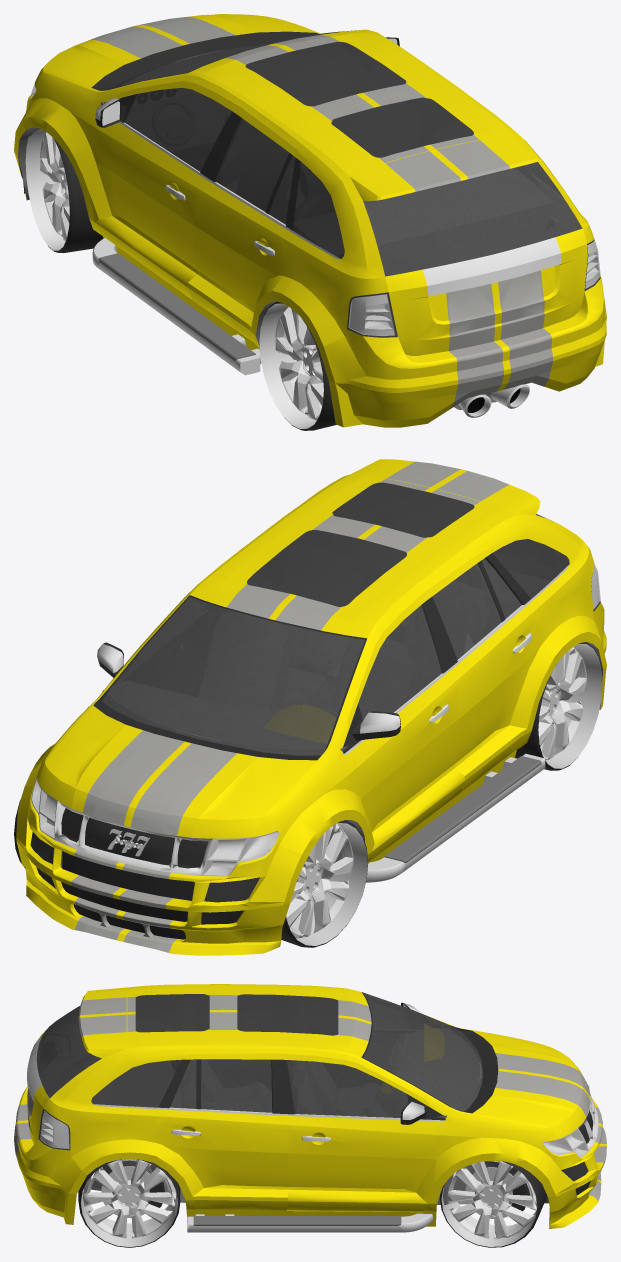
3 views of the same model, one above another, from view 1: azimuth 30°, elevation 25°; view 2: azimuth 150°, elevation 25°; view 3: azimuth 270°, elevation 25° (orthographic). The views are drawn at different scales.
Visible parts, largest first — view 1: mesh63_mesh63-geometry_1, mesh63_mesh63-geometry, mesh40_mesh40-geometry_1, mesh56_mesh56-geometry_1, mesh144_mesh144-geometry_1, mesh43_mesh43-geometry_1, mesh64_mesh64-geometry_1, mesh133_mesh133-geometry, mesh131_mesh131-geometry_1, mesh34_mesh34-geometry_1, mesh53_mesh53-geometry_1, mesh53_mesh53-geometry (+43 smaller); view 2: mesh136_mesh136-geometry_1, mesh136_mesh136-geometry, mesh33_mesh33-geometry_1, mesh56_mesh56-geometry_1, mesh43_mesh43-geometry_1, mesh40_mesh40-geometry_1, mesh33_mesh33-geometry_2, mesh112_mesh112-geometry_3, mesh133_mesh133-geometry, mesh131_mesh131-geometry_1, mesh34_mesh34-geometry_1, mesh53_mesh53-geometry_1 (+42 smaller); view 3: mesh86_mesh86-geometry_1, mesh101_mesh101-geometry_1, mesh93_mesh93-geometry_1, mesh136_mesh136-geometry_1, mesh136_mesh136-geometry, mesh80_mesh80-geometry_1, mesh83_mesh83-geometry_1, mesh83_mesh83-geometry, mesh33_mesh33-geometry_1, mesh208_mesh208-geometry_1, mesh239_mesh239-geometry_1, mesh133_mesh133-geometry (+44 smaller).
Boxes of the visible parts, box(x1,y1,x2,y2) form: mesh63_mesh63-geometry_1: box(363, 162, 582, 276); mesh63_mesh63-geometry: box(363, 162, 581, 276); mesh40_mesh40-geometry_1: box(103, 73, 388, 349); mesh56_mesh56-geometry_1: box(89, 122, 205, 287); mesh144_mesh144-geometry_1: box(319, 329, 507, 427); mesh43_mesh43-geometry_1: box(188, 179, 292, 332); mesh64_mesh64-geometry_1: box(385, 228, 587, 355); mesh133_mesh133-geometry: box(245, 42, 406, 106); mesh131_mesh131-geometry_1: box(189, 29, 515, 176); mesh34_mesh34-geometry_1: box(22, 69, 107, 221); mesh53_mesh53-geometry_1: box(125, 88, 231, 171); mesh53_mesh53-geometry: box(125, 88, 231, 171); mesh136_mesh136-geometry_1: box(102, 597, 364, 755); mesh136_mesh136-geometry: box(102, 597, 364, 755); mesh33_mesh33-geometry_1: box(38, 705, 316, 838); mesh56_mesh56-geometry_1: box(352, 670, 464, 851); mesh43_mesh43-geometry_1: box(451, 601, 554, 780); mesh40_mesh40-geometry_1: box(331, 514, 601, 747); mesh33_mesh33-geometry_2: box(82, 730, 236, 835); mesh112_mesh112-geometry_3: box(116, 843, 306, 955); mesh133_mesh133-geometry: box(247, 530, 406, 606); mesh131_mesh131-geometry_1: box(190, 474, 515, 638); mesh34_mesh34-geometry_1: box(256, 740, 371, 858); mesh53_mesh53-geometry_1: box(358, 605, 441, 719); mesh86_mesh86-geometry_1: box(284, 1115, 436, 1203); mesh101_mesh101-geometry_1: box(44, 1045, 448, 1200); mesh93_mesh93-geometry_1: box(155, 1109, 288, 1201); mesh136_mesh136-geometry_1: box(363, 993, 483, 1111); mesh136_mesh136-geometry: box(363, 993, 482, 1111); mesh80_mesh80-geometry_1: box(428, 1106, 559, 1203); mesh83_mesh83-geometry_1: box(286, 1060, 407, 1117); mesh83_mesh83-geometry: box(287, 1060, 407, 1117); mesh33_mesh33-geometry_1: box(472, 1031, 590, 1138); mesh208_mesh208-geometry_1: box(82, 1159, 176, 1238); mesh239_mesh239-geometry_1: box(448, 1161, 537, 1239); mesh133_mesh133-geometry: box(237, 994, 338, 1035).
Bounding box in the file's own units: 0.3904 × 0.3027 × 0.8695.
